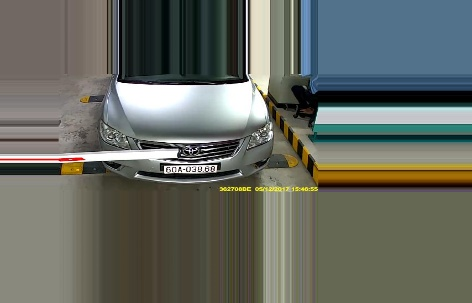plate: (164, 162, 220, 175)
